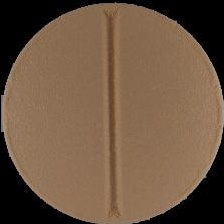59746-217: (0, 0, 224, 224)
